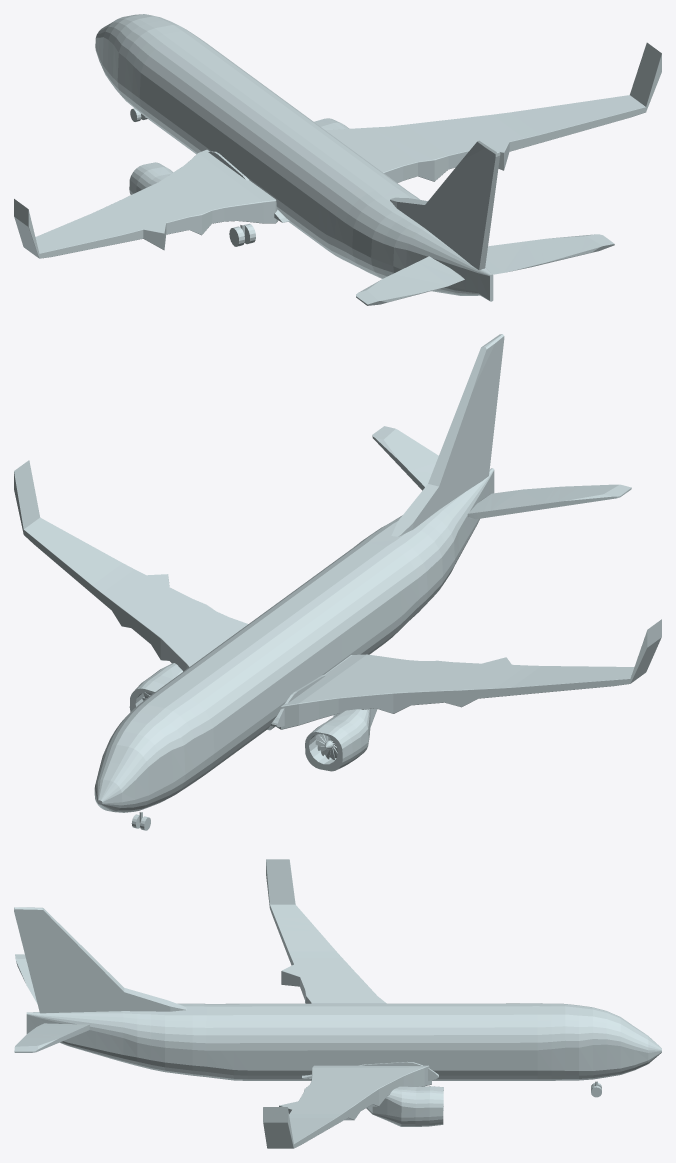
The picture shows the model from 3 angles, top to bottom: view 1: azimuth 30°, elevation 25°; view 2: azimuth 150°, elevation 25°; view 3: azimuth 270°, elevation 25°; orthographic projection. The views are drawn at different scales.
Visible parts, largest first — view 1: Aircraft visual hull, Landing gear; view 2: Aircraft visual hull; view 3: Aircraft visual hull.
Boxes of the visible parts, x1,y1,x2,y2 form: Aircraft visual hull: (14,14,661,305); Landing gear: (130,108,255,246); Aircraft visual hull: (14,334,661,812); Aircraft visual hull: (14,859,661,1148).
Size of the model in its own units: 36.17 by 12.61 by 39.57.
